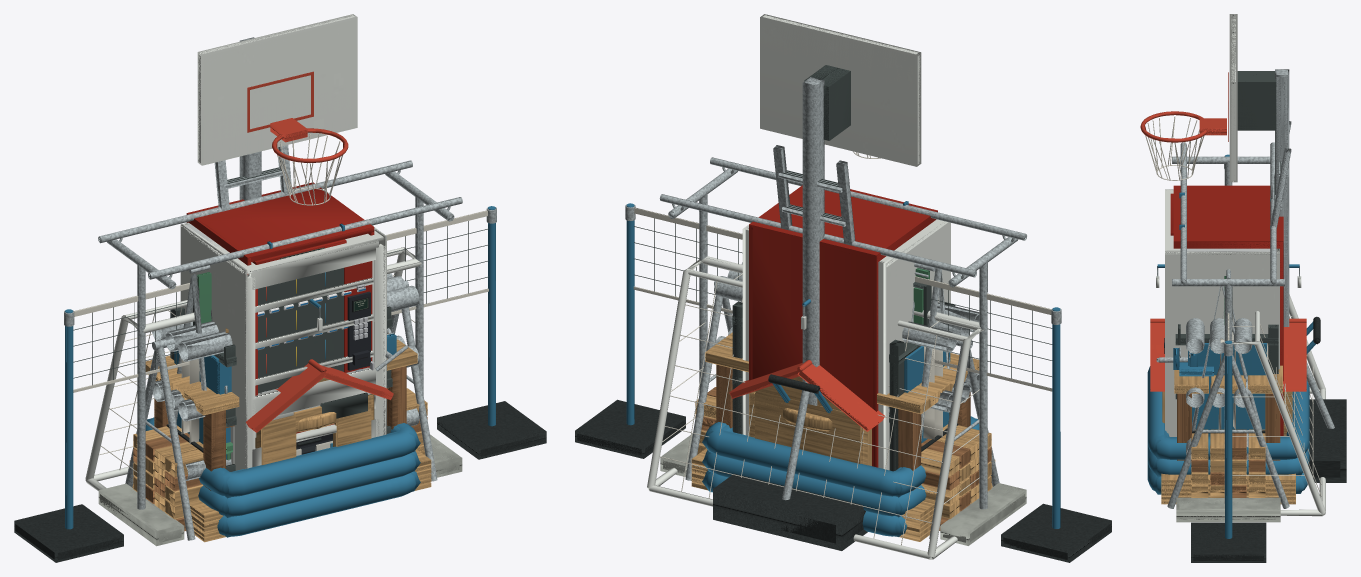
File: prop_01.glb
3 renders of one model, left to right at view 1: azimuth 30°, elevation 25°; view 2: azimuth 150°, elevation 25°; view 3: azimuth 270°, elevation 25°, orthographic. The views are drawn at different scales.
Visible parts, largest first — view 1: Batch_Surface_white (×4), Batch_Metal_galvanized (×7), Batch_Surface_blue (×4), Batch_Wood_unfinished_longitudinal (×8), Batch_Metal_powdercoat (×4), Batch_Rubber_grip (×2), snack_shell, Batch_Surface_red (×4), Batch_Wood_oiled_longitudinal (×3), static_assembly, Batch_Surface_stone (×2), Batch_Paper_cardboard (×3) (+1 smaller); view 2: Batch_Surface_white (×4), Batch_Metal_galvanized (×10), snack_shell, Batch_Rubber_grip (×4), Batch_Surface_blue (×4), Batch_Wood_unfinished_longitudinal (×8), Batch_Metal_powdercoat (×5), Batch_Paper_cardboard (×4), static_assembly, Batch_Wood_oiled_longitudinal (×3), Batch_Surface_stone (×2), Batch_Surface_red (×2); view 3: Batch_Metal_galvanized (×10), Batch_Surface_white (×4), Batch_Surface_blue (×7), Batch_Wood_unfinished_longitudinal (×7), Batch_Rubber_grip (×4), static_assembly, Batch_Surface_red (×4), Batch_Metal_powdercoat (×3), Batch_Wood_oiled_longitudinal (×3), Batch_Surface_stone (×2), Batch_Paper_cardboard (×3), snack_shell (+1 smaller).
Part boxes in pixels (x1=…): Batch_Surface_white (×4): x1=85, y1=14, x2=421, y2=490; Batch_Metal_galvanized (×7): x1=98, y1=145, x2=462, y2=540; Batch_Surface_blue (×4): x1=65, y1=206, x2=495, y2=537; Batch_Wood_unfinished_longitudinal (×8): x1=129, y1=339, x2=431, y2=542; Batch_Metal_powdercoat (×4): x1=73, y1=221, x2=488, y2=471; Batch_Rubber_grip (×2): x1=14, y1=401, x2=546, y2=562; snack_shell: x1=195, y1=182, x2=373, y2=265; Batch_Surface_red (×4): x1=246, y1=71, x2=393, y2=432; Batch_Wood_oiled_longitudinal (×3): x1=133, y1=366, x2=421, y2=529; static_assembly: x1=186, y1=182, x2=374, y2=454; Batch_Surface_stone (×2): x1=98, y1=434, x2=462, y2=546; Batch_Paper_cardboard (×3): x1=73, y1=134, x2=488, y2=392; Batch_Surface_white (×4): x1=647, y1=14, x2=984, y2=559; Batch_Metal_galvanized (×10): x1=660, y1=77, x2=1026, y2=538; snack_shell: x1=749, y1=210, x2=937, y2=466; Batch_Rubber_grip (×4): x1=575, y1=399, x2=1111, y2=562; Batch_Surface_blue (×4): x1=626, y1=203, x2=1060, y2=536; Batch_Wood_unfinished_longitudinal (×8): x1=691, y1=332, x2=995, y2=541; Batch_Metal_powdercoat (×5): x1=634, y1=65, x2=1052, y2=471; Batch_Paper_cardboard (×4): x1=633, y1=207, x2=1052, y2=545; static_assembly: x1=749, y1=185, x2=937, y2=467; Batch_Wood_oiled_longitudinal (×3): x1=695, y1=364, x2=991, y2=519; Batch_Surface_stone (×2): x1=660, y1=433, x2=1026, y2=545; Batch_Surface_red (×2): x1=729, y1=360, x2=884, y2=431; Batch_Metal_galvanized (×10): x1=1167, y1=69, x2=1334, y2=508; Batch_Surface_white (×4): x1=1165, y1=14, x2=1325, y2=516; Batch_Surface_blue (×7): x1=1147, y1=154, x2=1309, y2=538; Batch_Wood_unfinished_longitudinal (×7): x1=1161, y1=365, x2=1295, y2=504; Batch_Rubber_grip (×4): x1=1191, y1=399, x2=1346, y2=562; static_assembly: x1=1164, y1=185, x2=1283, y2=435; Batch_Surface_red (×4): x1=1140, y1=72, x2=1306, y2=391; Batch_Metal_powdercoat (×3): x1=1176, y1=71, x2=1278, y2=398; Batch_Wood_oiled_longitudinal (×3): x1=1177, y1=393, x2=1279, y2=497; Batch_Surface_stone (×2): x1=1176, y1=497, x2=1280, y2=522; Batch_Paper_cardboard (×3): x1=1145, y1=116, x2=1321, y2=496; snack_shell: x1=1174, y1=186, x2=1283, y2=435.
Size of the model in its own units: 3.53 by 3.1 by 1.42.
Materials: 318 (305 with a texture image).
